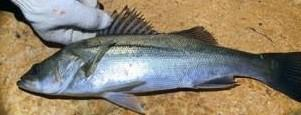fish: (18, 6, 300, 113)
